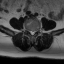CCS_normal: (31, 28, 33, 37)
LFS_normal: (35, 27, 37, 33)
LLS_normal: (33, 28, 35, 35)
RFS_stenosis: (27, 27, 29, 34)
RLS_normal: (29, 29, 31, 35)
